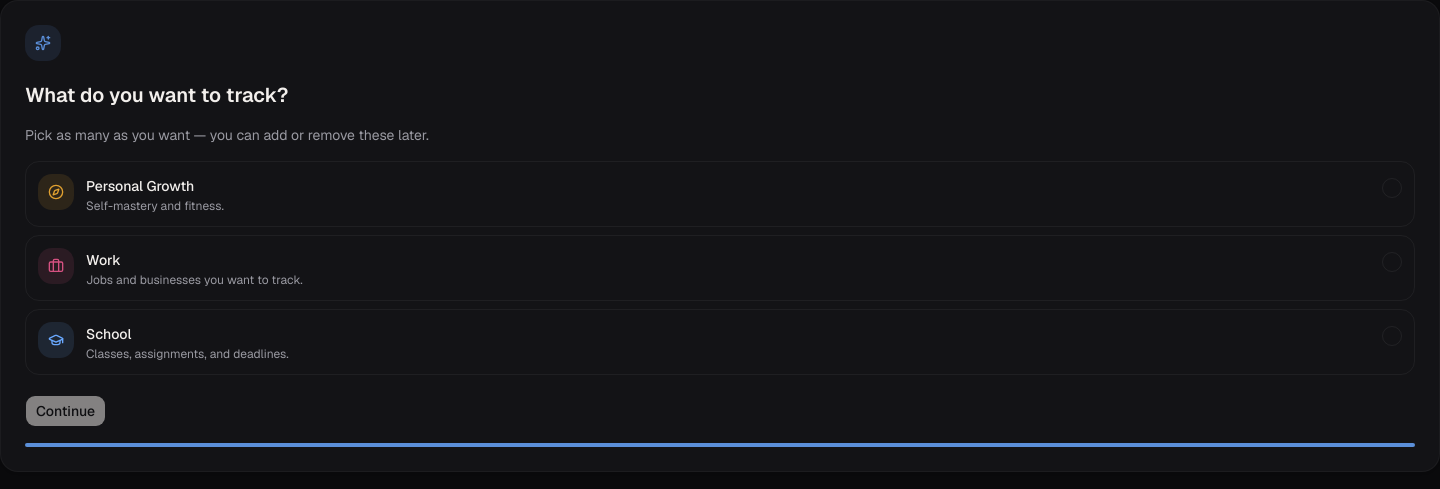
Test: OnboardingWizard › refuses to remove the last remaining subdomain
This screenshot has width=1440, height=489.
Click the button with test id "domain-option-personal_growth" at (56, 192), box [25, 161, 1415, 227]
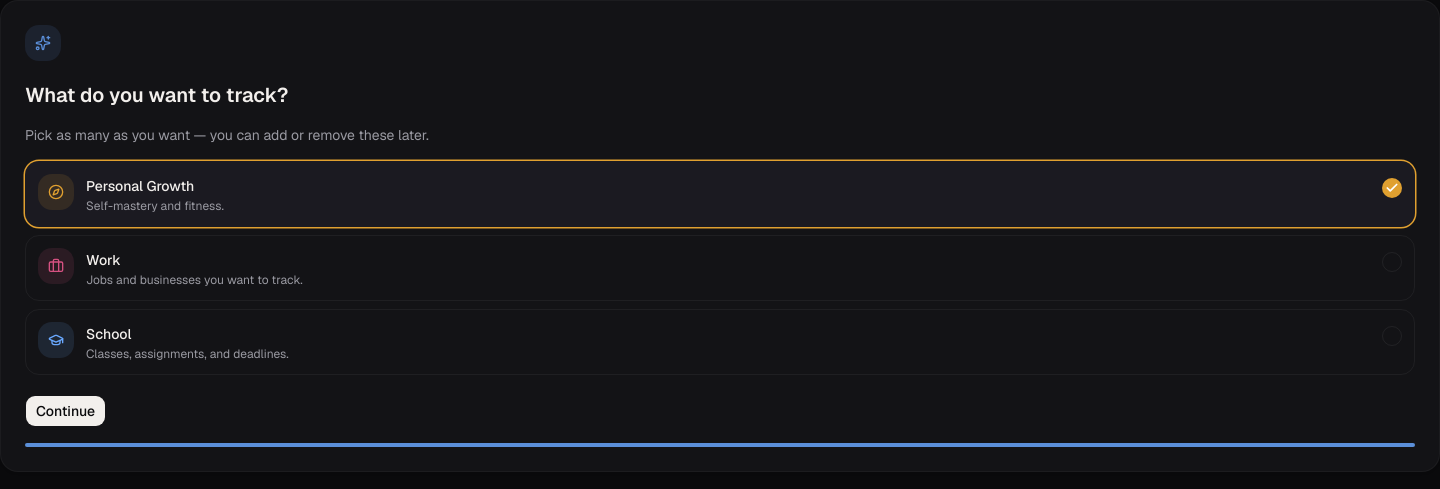
Click the button with test id "onboarding-next" at (66, 411), box [25, 395, 106, 427]
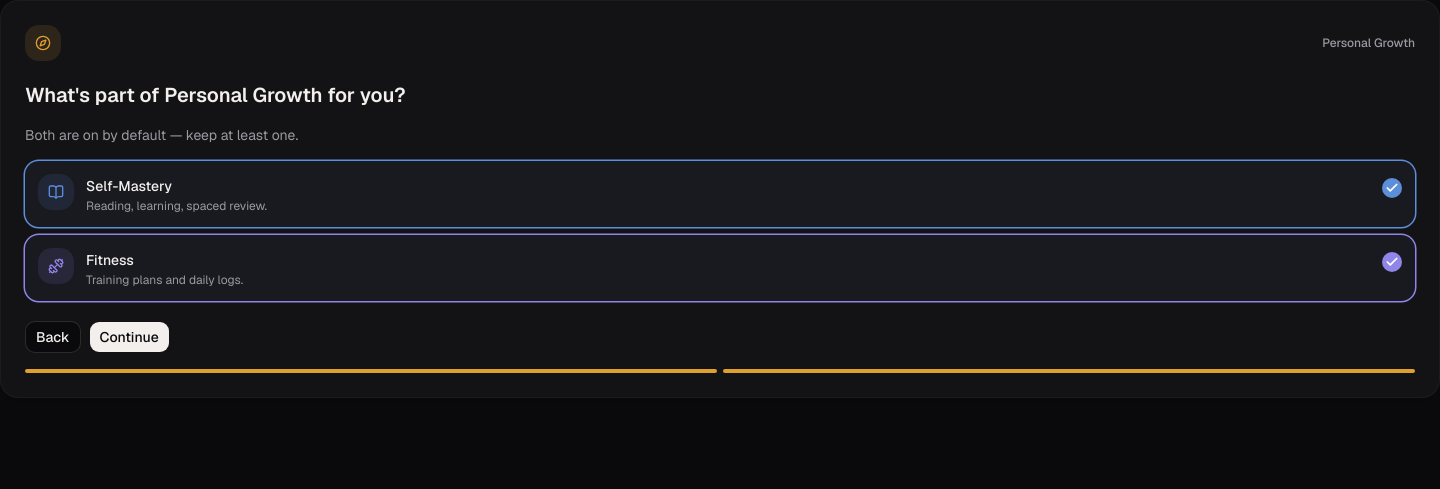
Click the button with test id "subdomain-option-self_mastery" at (56, 192), box [25, 161, 1415, 227]
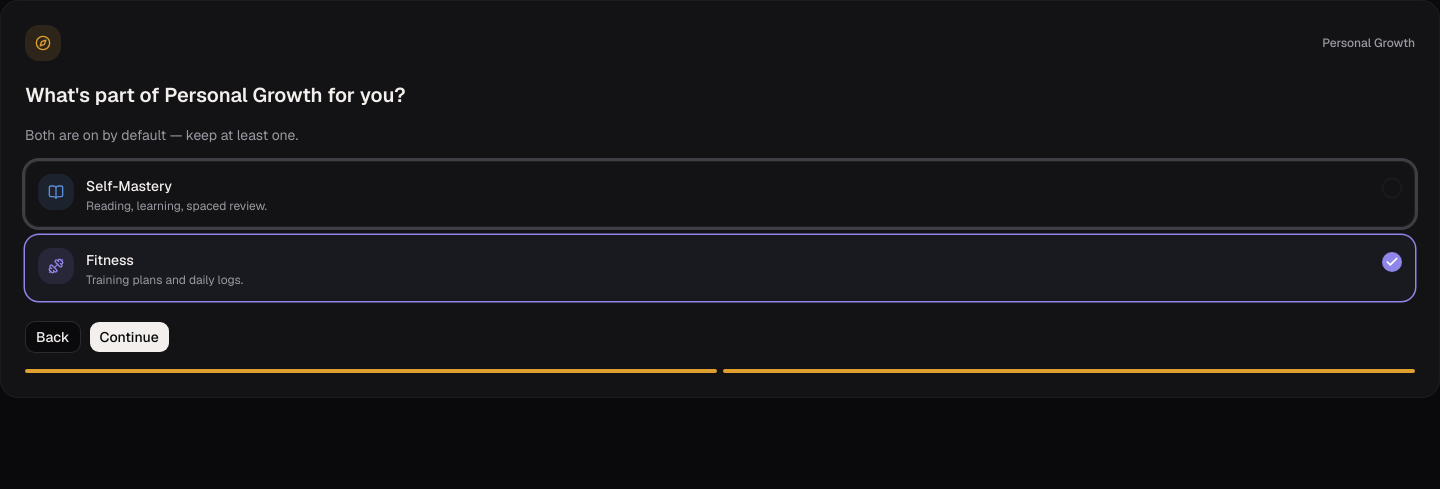
Click the button with test id "subdomain-option-fitness" at (56, 266), box [25, 235, 1415, 301]
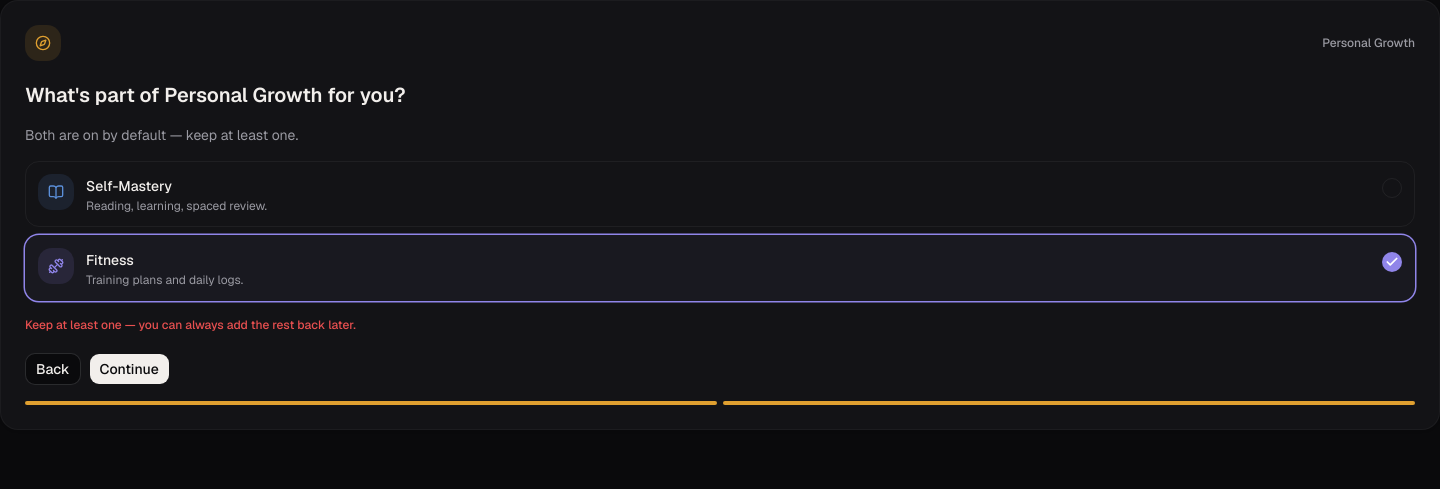
Check: the text "Keep at least one — you can always add the rest back later." is shown, box [25, 317, 356, 333]
